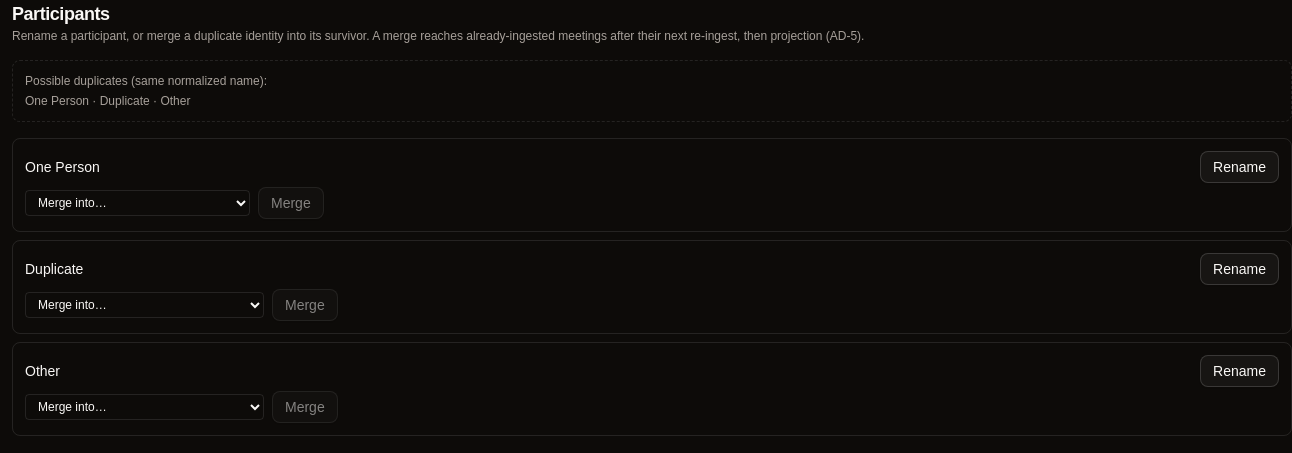
Test: Participants › gives each merge picker an accessible name and serializes merges globally
expect the list item with test id "participant-row-p-3" is shown: met, box [12,342,1291,436]
Select "One Person (mail:one@contoso.com)" in the dropdown with test id "merge-select-p-2" at (144,305), box [25,292,264,318]
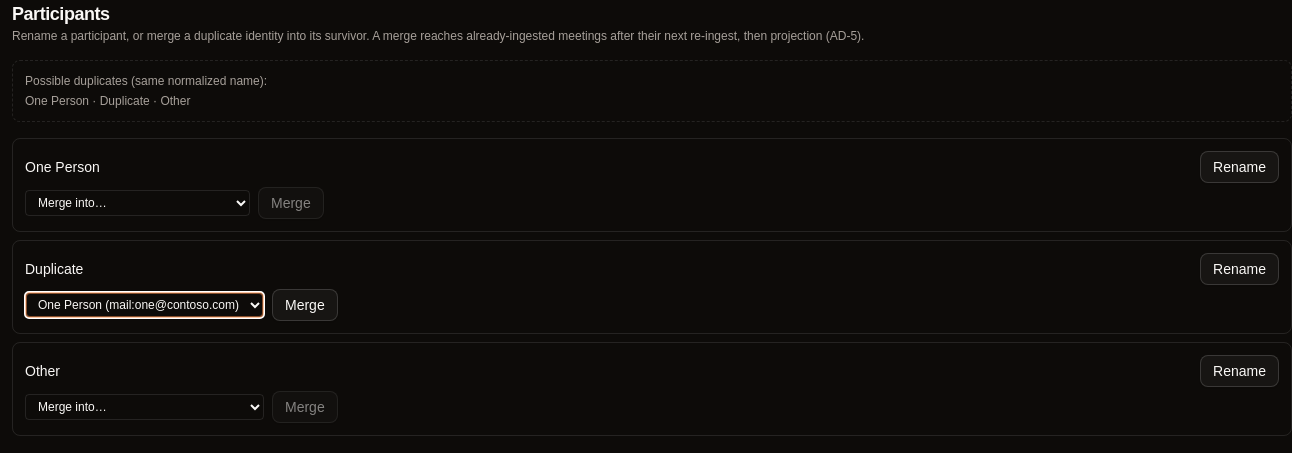
Click the button with test id "merge-button-p-2" at (305,305), box [272,289,338,321]
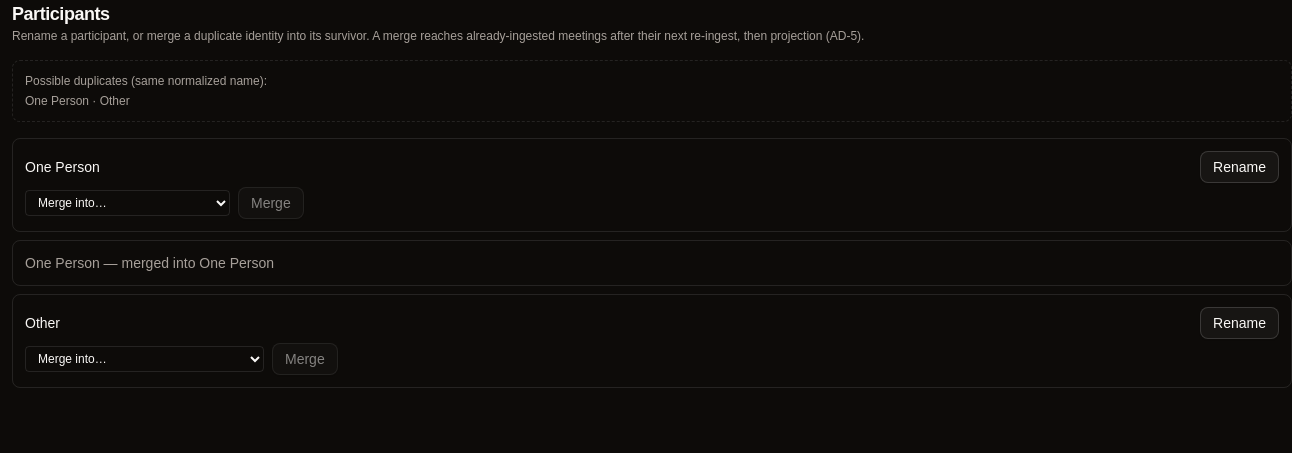
expect the button with test id "merge-button-p-3" is disabled: met, box [272,343,338,375]
expect the text "One Person — merged into One Person" is shown: met, box [25,255,274,271]
